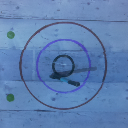Axe Tip: (53, 72, 67, 76)
